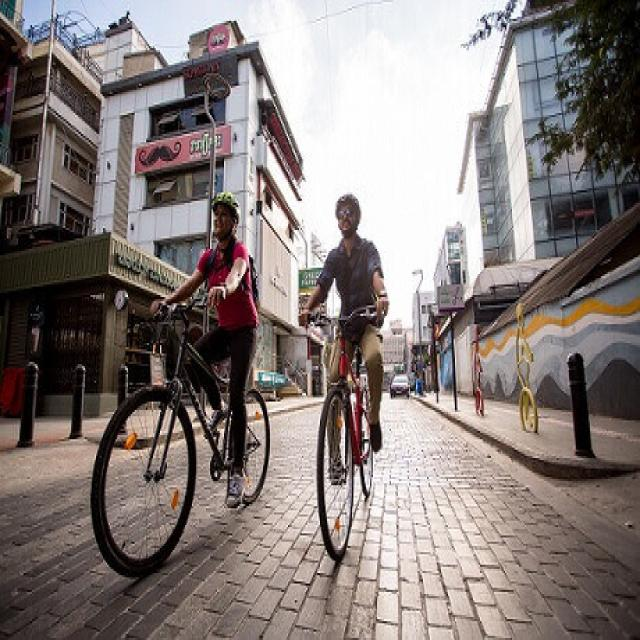bicycle: (90, 194, 270, 576), (300, 194, 389, 559)
car: (390, 374, 410, 398)
